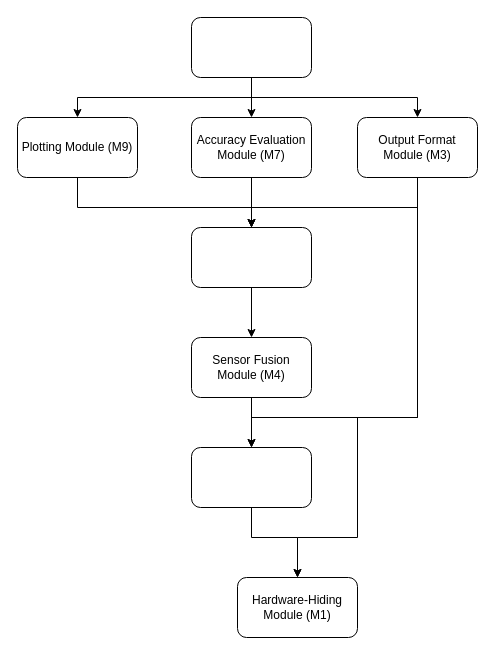
Some shapes in this 495 by 655 pixel diagram are drawn without their labels. Here are the shapes that lost their labels. From the top down, the box of each, then its label:
(190, 16, 312, 78): Control Module (M6)
(190, 226, 312, 288): Localization Module (M5)
(190, 446, 312, 508): Input Format Module (M2)
